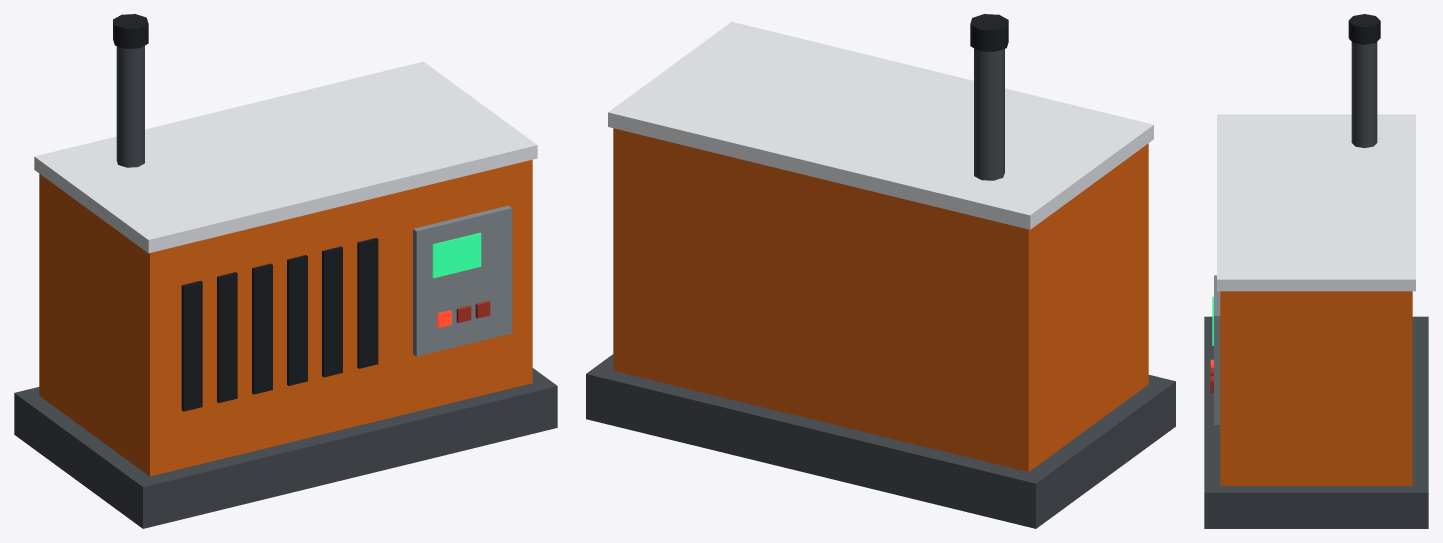
The model's file is so_generator.glb.
3 views of the same model, side by side, from view 1: azimuth 30°, elevation 25°; view 2: azimuth 150°, elevation 25°; view 3: azimuth 270°, elevation 25° (orthographic). The views are drawn at different scales.
Visible parts, largest first — view 1: so_generator; view 2: so_generator; view 3: so_generator.
Part boxes in pixels (box(x1,y1,x2,y2)): so_generator: box(14, 14, 557, 528); so_generator: box(586, 14, 1175, 528); so_generator: box(1204, 14, 1428, 528).
Bounding box in the file's own units: 2.6 × 2.52 × 1.4.
